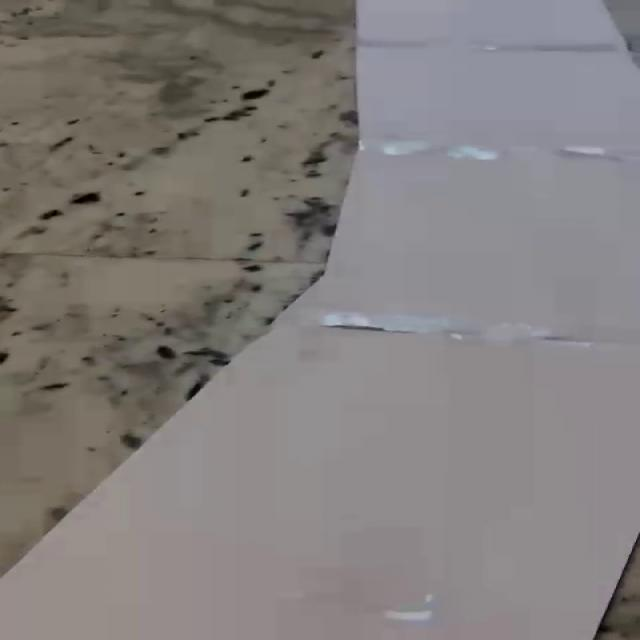road: (0, 0, 640, 640)
